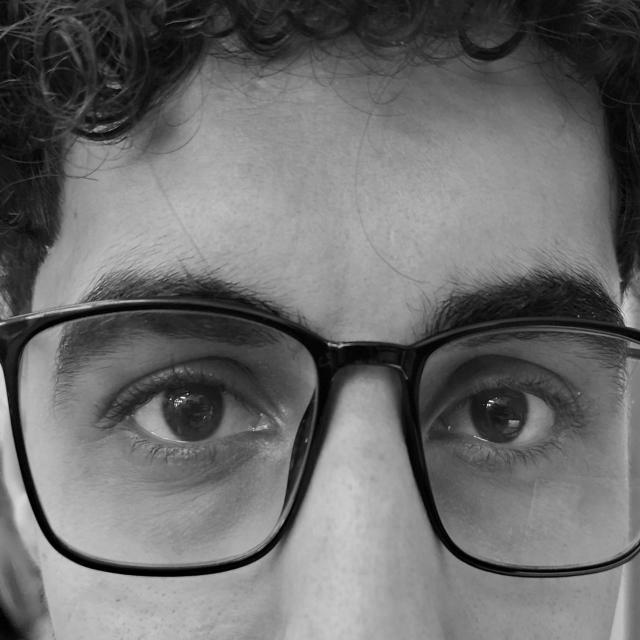real: (49, 294, 620, 572)
